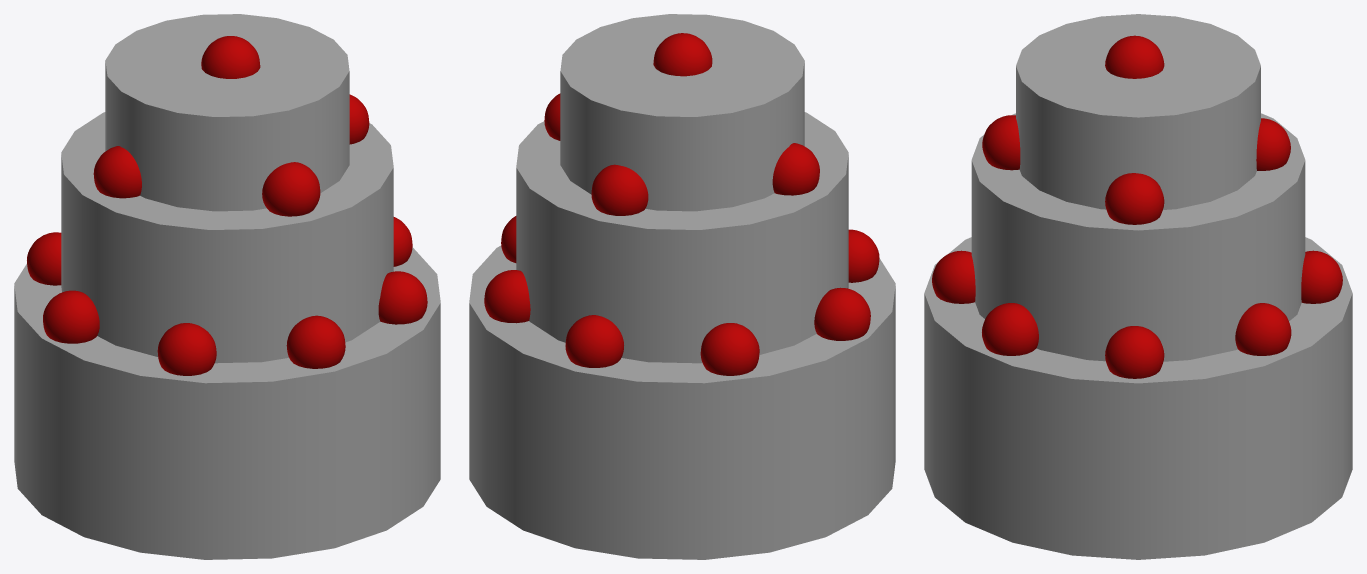
File: cake.fbx
3 views of the same model, side by side, from view 1: azimuth 30°, elevation 25°; view 2: azimuth 150°, elevation 25°; view 3: azimuth 270°, elevation 25° (orthographic).
Parts seen in each view (by area): view 1: pasted__pCylinder1 (×2), pCylinder1, pasted__pSphere1 (×3), pasted__pasted__pSphere1 (×2), pasted__pasted__pasted__pSphere1 (×2), pasted__pasted__pasted__pasted__pSphere1 (×2), pSphere1; view 2: pasted__pCylinder1 (×2), pCylinder1, pasted__pasted__pSphere1 (×4), pasted__pasted__pasted__pSphere1 (×2), pasted__pSphere1 (×2), pasted__pasted__pasted__pasted__pSphere1 (×2); view 3: pasted__pCylinder1 (×2), pCylinder1, pasted__pSphere1 (×4), pasted__pasted__pasted__pasted__pSphere1 (×2), pasted__pasted__pSphere1 (×2), pSphere1.
Boxes of the visible parts, x1,y1,x2,y2 form: pasted__pCylinder1 (×2): (61,14,393,363); pCylinder1: (14,247,440,559); pasted__pSphere1 (×3): (262,162,427,324); pasted__pasted__pSphere1 (×2): (43,290,216,375); pasted__pasted__pasted__pSphere1 (×2): (27,146,141,285); pasted__pasted__pasted__pasted__pSphere1 (×2): (201,36,369,144); pSphere1: (286,315,345,368); pasted__pCylinder1 (×2): (516,14,848,363); pCylinder1: (469,245,895,559); pasted__pasted__pSphere1 (×4): (484,164,879,340); pasted__pasted__pasted__pSphere1 (×2): (700,143,819,375); pasted__pSphere1 (×2): (501,216,623,367); pasted__pasted__pasted__pasted__pSphere1 (×2): (544,33,712,140); pasted__pCylinder1 (×2): (971,14,1305,361); pCylinder1: (924,237,1352,559); pasted__pSphere1 (×4): (982,115,1342,378); pasted__pasted__pasted__pasted__pSphere1 (×2): (1105,35,1164,224); pasted__pasted__pSphere1 (×2): (1235,118,1291,355); pSphere1: (932,250,975,303).
Size of the model in its own units: 2 by 2.22 by 2.
